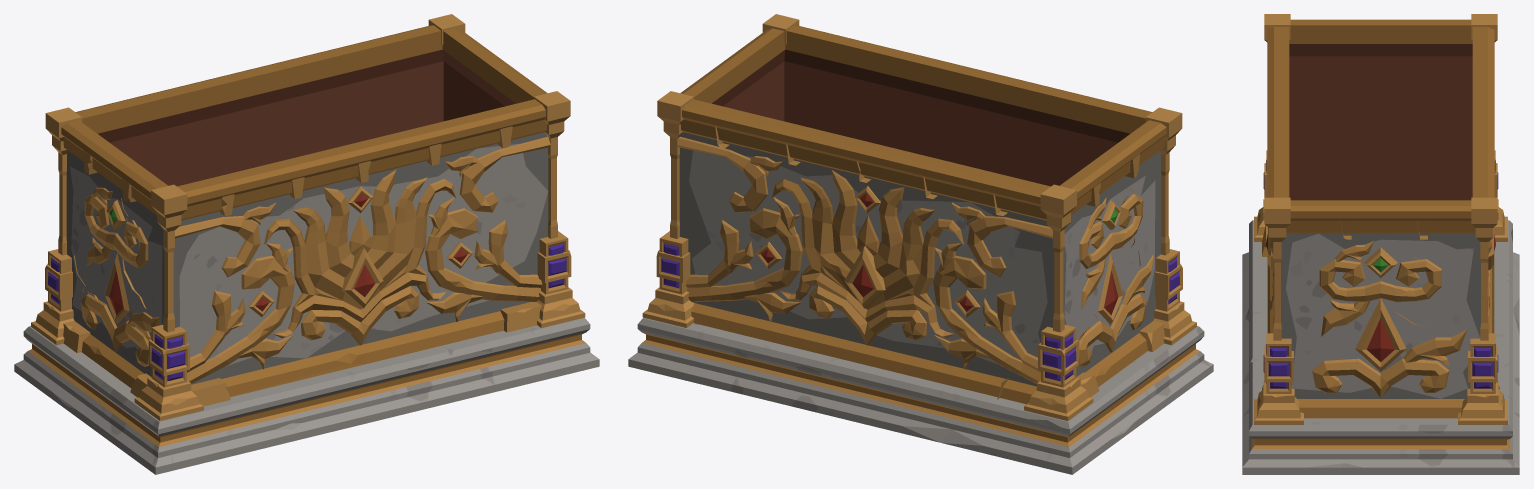
The model's file is chest.gltf.
3 renders of one model, left to right at view 1: azimuth 30°, elevation 25°; view 2: azimuth 150°, elevation 25°; view 3: azimuth 270°, elevation 25°, orthographic.
Visible parts, largest first — view 1: SM_Prop_Legendary_Chest_01; view 2: SM_Prop_Legendary_Chest_01; view 3: SM_Prop_Legendary_Chest_01.
Part boxes in pixels (box(x1,y1,x2,y2)): SM_Prop_Legendary_Chest_01: box(14, 14, 599, 474); SM_Prop_Legendary_Chest_01: box(628, 14, 1213, 474); SM_Prop_Legendary_Chest_01: box(1242, 14, 1519, 474).
Bounding box in the file's own units: 160 × 90.27 × 88.16.
1 material, 1 textured.
